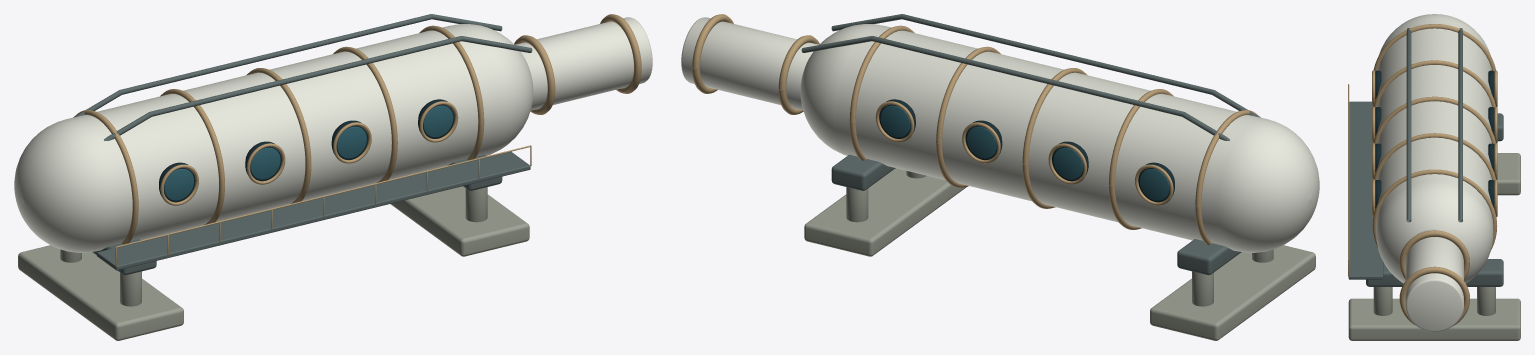
The model's file is habitat.glb.
3 views of the same model, side by side, from view 1: azimuth 30°, elevation 25°; view 2: azimuth 150°, elevation 25°; view 3: azimuth 270°, elevation 25° (orthographic). The views are drawn at different scales.
Parts seen in each view (by area): view 1: habitat / Warm enamel, habitat / Deck grating, habitat / Marine concrete, habitat / Anodised bronze, habitat / Observation glazing, habitat / Recessed joints; view 2: habitat / Warm enamel, habitat / Marine concrete, habitat / Anodised bronze, habitat / Deck grating, habitat / Observation glazing, habitat / Recessed joints; view 3: habitat / Warm enamel, habitat / Deck grating, habitat / Anodised bronze, habitat / Marine concrete, habitat / Recessed joints.
Boxes of the visible parts, box(x1,y1,x2,y2) form: habitat / Warm enamel: box(14, 17, 652, 252); habitat / Deck grating: box(73, 14, 532, 275); habitat / Marine concrete: box(18, 186, 529, 340); habitat / Anodised bronze: box(74, 14, 641, 267); habitat / Observation glazing: box(164, 105, 453, 200); habitat / Recessed joints: box(159, 99, 454, 202); habitat / Warm enamel: box(681, 17, 1319, 252); habitat / Marine concrete: box(804, 168, 1315, 340); habitat / Anodised bronze: box(692, 14, 1259, 244); habitat / Deck grating: box(801, 14, 1260, 275); habitat / Observation glazing: box(880, 105, 1169, 200); habitat / Recessed joints: box(879, 99, 1174, 202); habitat / Warm enamel: box(1376, 14, 1493, 331); habitat / Deck grating: box(1348, 28, 1503, 286); habitat / Anodised bronze: box(1348, 24, 1497, 325); habitat / Marine concrete: box(1348, 153, 1520, 340); habitat / Recessed joints: box(1375, 70, 1494, 208).
Size of the model in its own units: 35.5 by 10.44 by 10.04.
